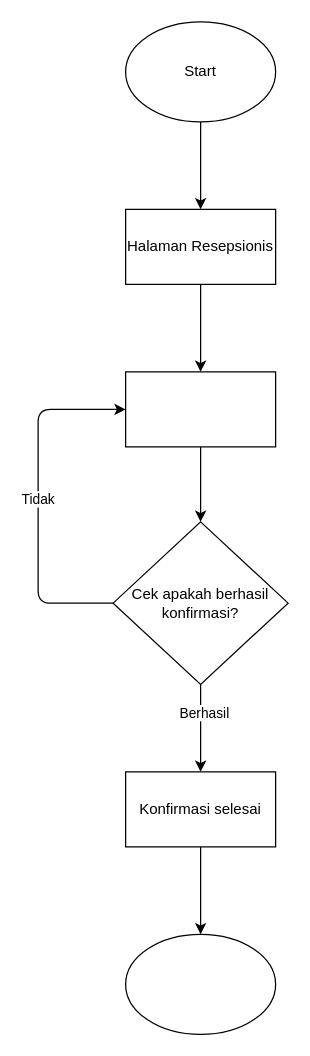
The diagram is 310 pixels wide and 1056 high, and some of its shapes have lost their labels. The centre of each missing label's shape, as x and y in pixels:
"End" goes at point 200,983.
"Konfirmasi Pembayaran" goes at point 200,409.
